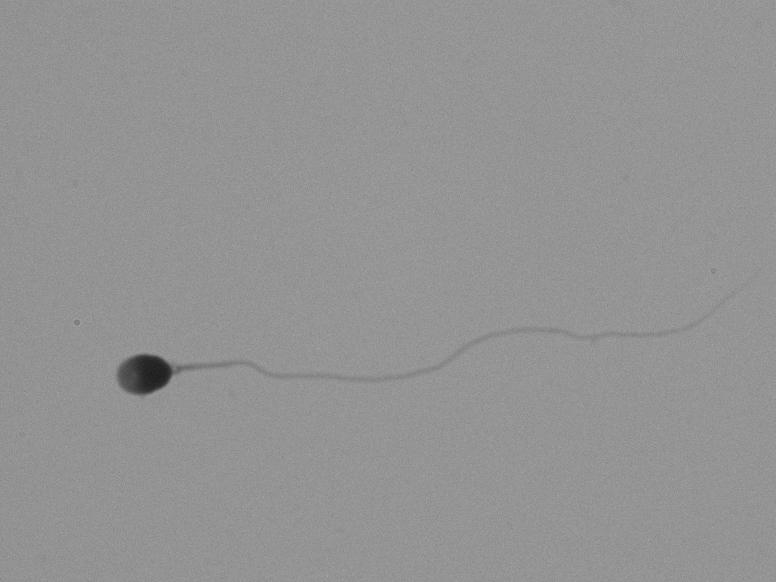Normal: (96, 225, 742, 444)
